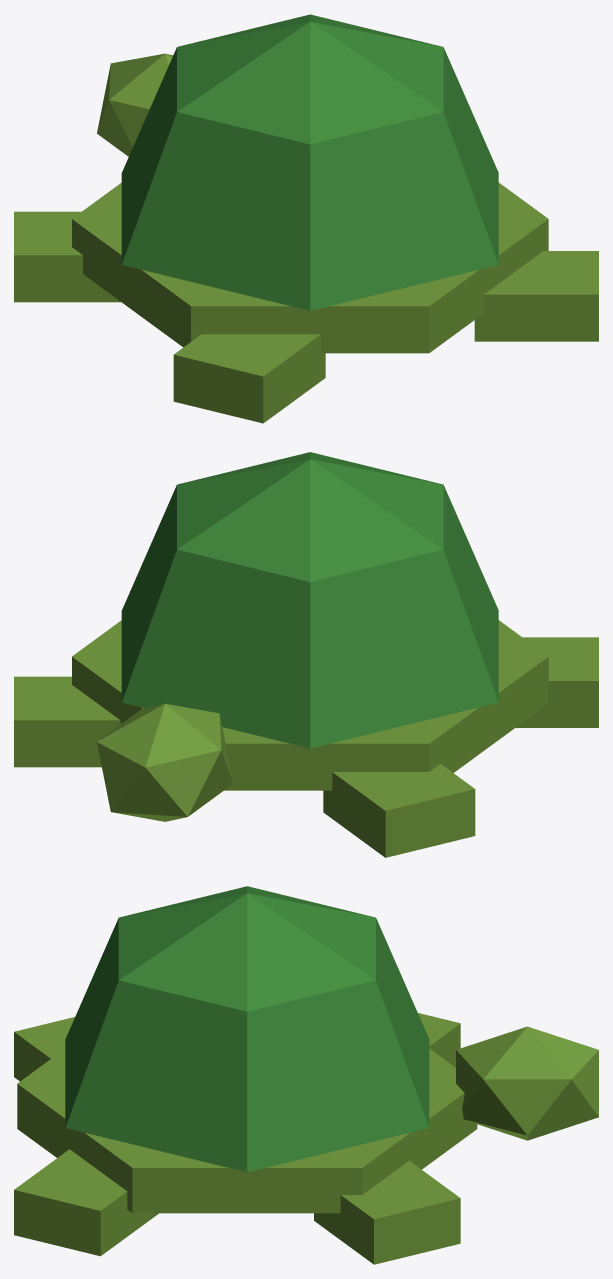
The model's file is tartaruga.glb.
3 views of the same model, one above another, from view 1: azimuth 30°, elevation 25°; view 2: azimuth 150°, elevation 25°; view 3: azimuth 270°, elevation 25° (orthographic). The views are drawn at different scales.
Visible parts, largest first — view 1: corpo; view 2: corpo; view 3: corpo.
Part boxes in pixels (x1,y1,x2,y2): corpo: (14, 14, 598, 423); corpo: (14, 452, 598, 857); corpo: (14, 886, 598, 1264).
Bounding box in the file's own units: 0.257 × 0.145 × 0.2924.
